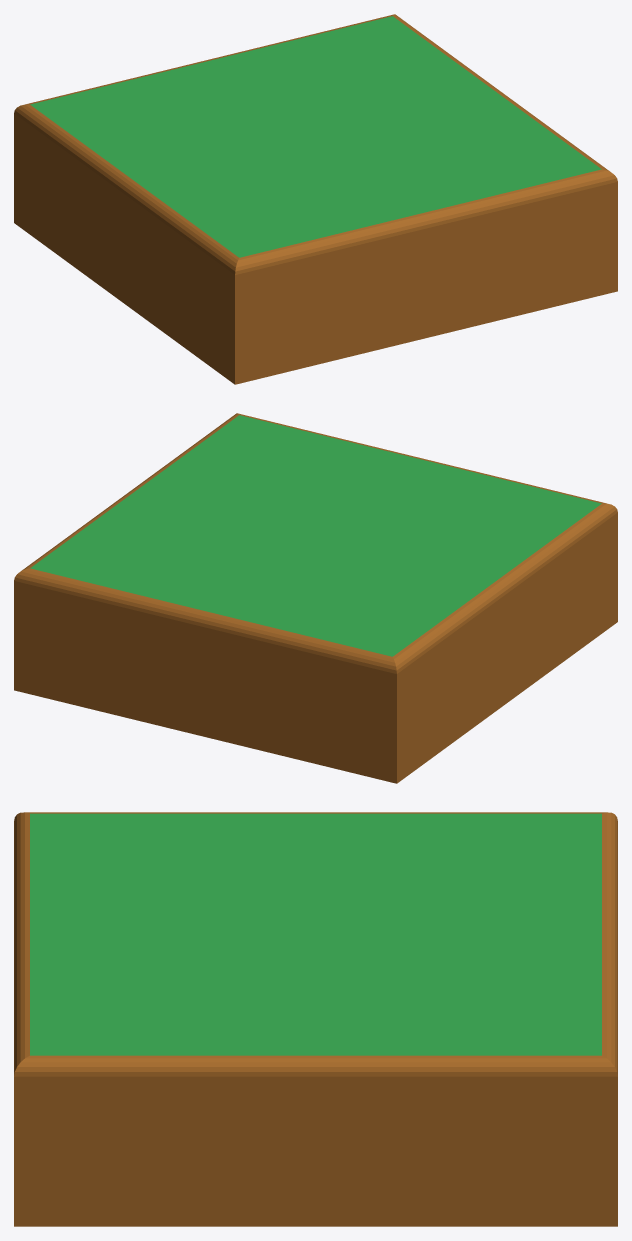
File: Tile_Ground.fbx
The picture shows the model from 3 angles, top to bottom: view 1: azimuth 30°, elevation 25°; view 2: azimuth 150°, elevation 25°; view 3: azimuth 270°, elevation 25°; orthographic projection. The views are drawn at different scales.
Parts seen in each view (by area): view 1: Tile_Ground; view 2: Tile_Ground; view 3: Tile_Ground.
Part boxes in pixels (<box>): Tile_Ground: <box>14,14,617,384</box>; Tile_Ground: <box>14,413,617,783</box>; Tile_Ground: <box>14,812,617,1226</box>.
Bounding box in the file's own units: 200 × 60 × 200.
